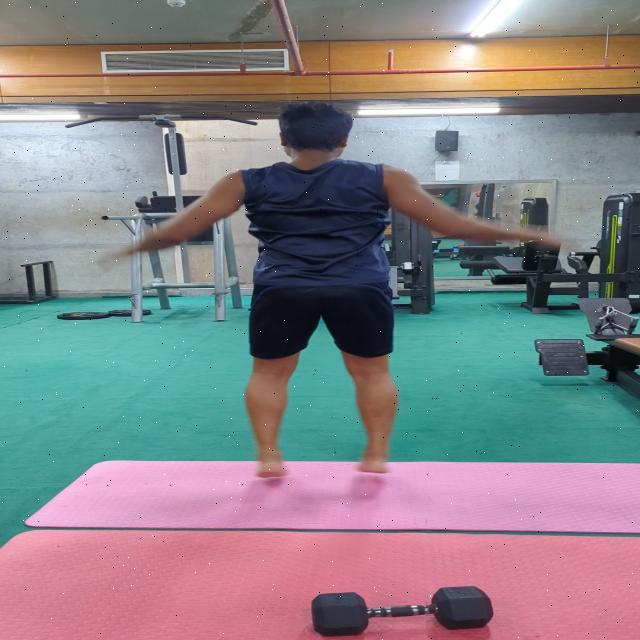Normal_JumpingJacks: (101, 88, 604, 514)
